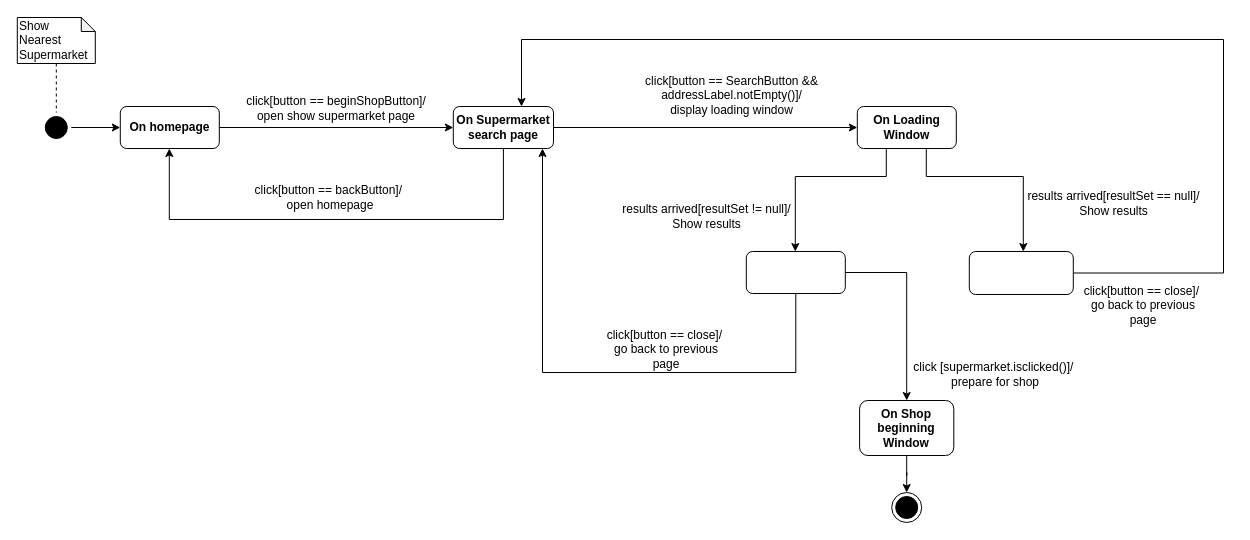
This 1250x540 diagram has some shape labels left out. Each missing label, with the centre of its shape:
"On Empty Result Window" goes at (x=1020, y=272).
"On Result Shown Window" goes at (x=795, y=272).
